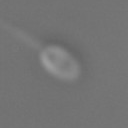normal: (1, 16, 41, 49)
